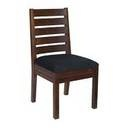obstacle: (30, 8, 97, 118)
